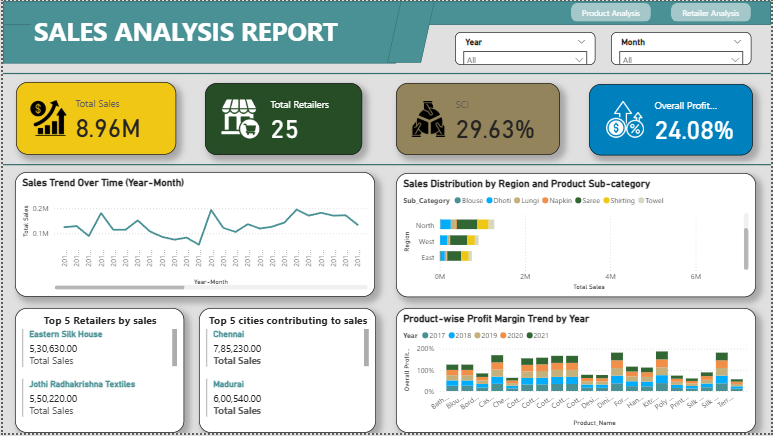

What the dashboard file says about the page in this screenshot:
{"tool":"powerbi","page":{"name":"Executive Sale Overview","canvas":[1280,720],"ordinal":0},"visuals":[{"type":"shape","box":[0,14.2,654.9,89.3],"z":0},{"type":"shape","box":[0,0,1280,39.7],"z":1000},{"type":"textbox","box":[46.8,15.6,620.9,66.6],"z":2000},{"type":"shape","box":[640,0,79.6,103.2],"z":3000},{"type":"slicer","fields":{"Values":["Date Table.Month"]},"box":[1013.5,51,233.9,55.3],"z":4000},{"type":"slicer","fields":{"Values":["Date Table.Year"]},"box":[752.7,51,233.9,55],"z":5000},{"type":"shape","box":[0,107.6,1280,25.1],"z":6000},{"type":"cardVisual","title":"t","fields":{"Data":["Base Measure.Total Sales"]},"box":[21.4,135.7,267.1,121.4],"z":7000},{"type":"cardVisual","fields":{"Data":["Base Measure.Total Retailers"]},"box":[337.4,136.1,262.2,120.5],"z":8000},{"type":"cardVisual","fields":{"Data":["KPI's.Sales Concentration Index (SCI)"]},"box":[654.3,137.1,272.9,120],"z":9000},{"type":"cardVisual","fields":{"Data":["Base Measure.Overall Profit Margin (%)"]},"box":[977.1,138.6,272.9,118.6],"z":10000},{"type":"shape","box":[0,259.4,1280,25.5],"z":11000},{"type":"lineChart","title":"Sales Trend Over Time (Year-Month)","fields":{"Category":["Date Table.Year-Month"],"Y":["Base Measure.Total Sales"]},"box":[19.8,284.9,599.6,208.4],"z":12000},{"type":"barChart","title":"Sales Distribution by Region and Product Sub-category","fields":{"Y":["Base Measure.Total Sales"],"Series":["Product.Sub_Category"],"Category":["Region.Region"]},"box":[654.9,286.3,599.6,207],"z":13000},{"type":"multiRowCard","title":"Top 5 Retailers by sales","fields":{"Values":["Retailer.Retailer_Name","Base Measure.Total Sales"]},"box":[20,511.7,281.7,208.3],"z":14000},{"type":"columnChart","title":"Product-wise Profit Margin Trend by Year","fields":{"Category":["Product.Product_Name"],"Y":["Base Measure.Profit %"],"Series":["Date Table.Year"]},"box":[655,511.7,600,208.3],"z":15000},{"type":"multiRowCard","title":"Top 5 cities contributing to sales","fields":{"Values":["Region.City (Representative)","Base Measure.Total Sales"]},"box":[326.7,511.7,295,208.3],"z":16000},{"type":"actionButton","box":[946.9,2.8,133.2,31.2],"z":17000},{"type":"actionButton","box":[1114.2,2.8,133.2,31.2],"z":18000}]}

Visuals, with their boxes in screenshot pixels (x1, y1, x2, y2), scaled from the page's 1280x720 canvas onto the 773x436 screenshot:
shape: (left=0, top=9, right=395, bottom=63)
shape: (left=0, top=0, right=772, bottom=24)
textbox: (left=28, top=9, right=403, bottom=50)
shape: (left=386, top=0, right=435, bottom=62)
slicer - Date Table.Month: (left=612, top=31, right=753, bottom=64)
slicer - Date Table.Year: (left=455, top=31, right=596, bottom=64)
shape: (left=0, top=65, right=772, bottom=80)
"t" cardVisual: (left=13, top=82, right=174, bottom=156)
cardVisual - Base Measure.Total Retailers: (left=204, top=82, right=362, bottom=155)
cardVisual - KPI's.Sales Concentration Index (SCI): (left=395, top=83, right=560, bottom=156)
cardVisual - Base Measure.Overall Profit Margin (%): (left=590, top=84, right=755, bottom=156)
shape: (left=0, top=157, right=772, bottom=173)
"Sales Trend Over Time (Year-Month)" lineChart: (left=12, top=173, right=374, bottom=299)
"Sales Distribution by Region and Product Sub-category" barChart: (left=395, top=173, right=758, bottom=299)
"Top 5 Retailers by sales" multiRowCard: (left=12, top=310, right=182, bottom=435)
"Product-wise Profit Margin Trend by Year" columnChart: (left=396, top=310, right=758, bottom=435)
"Top 5 cities contributing to sales" multiRowCard: (left=197, top=310, right=375, bottom=435)
actionButton: (left=572, top=2, right=652, bottom=21)
actionButton: (left=673, top=2, right=753, bottom=21)
